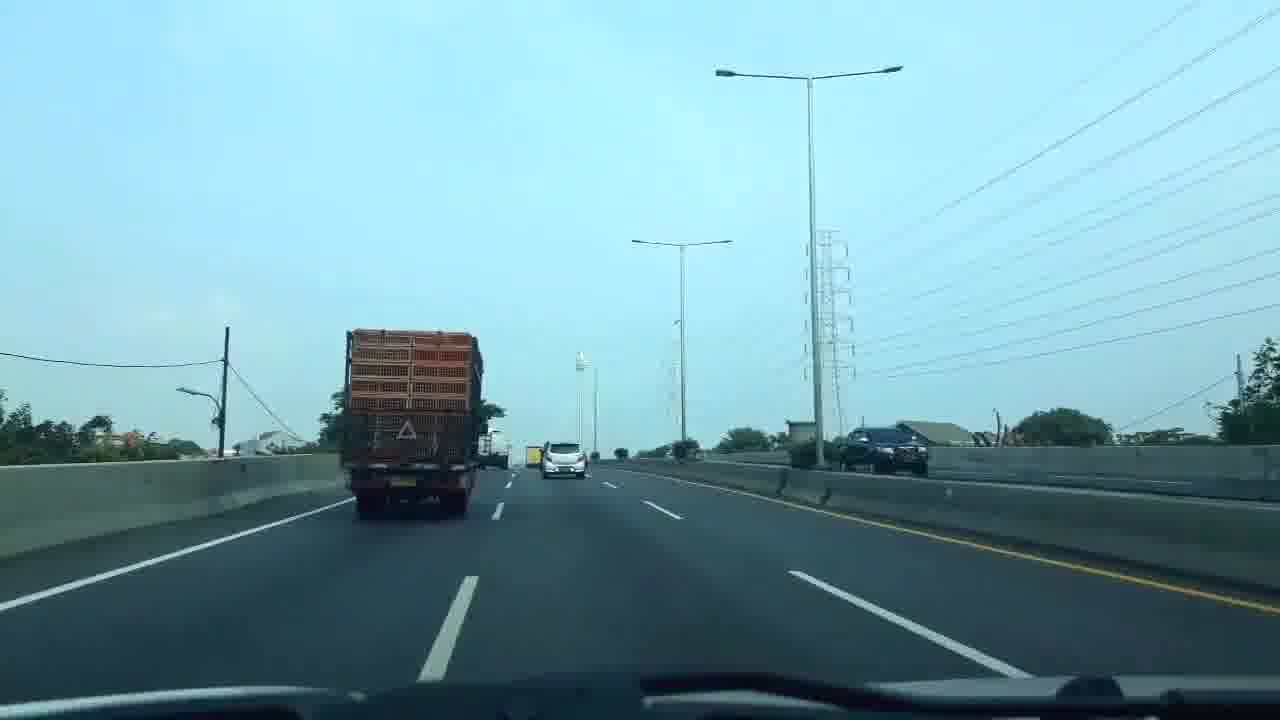plate_positive: (391, 477, 416, 487), (559, 467, 571, 472)
